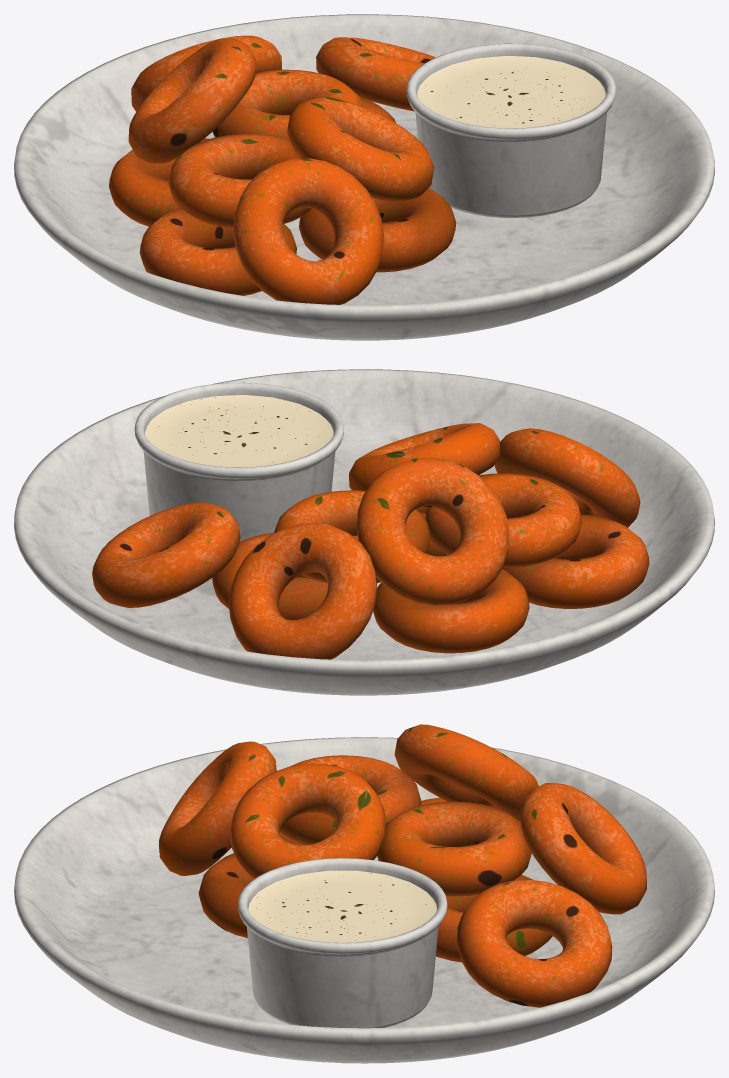
The model's file is Onion Rings Platter.glb.
The picture shows the model from 3 angles, top to bottom: view 1: azimuth 30°, elevation 25°; view 2: azimuth 150°, elevation 25°; view 3: azimuth 270°, elevation 25°; orthographic projection.
Visible parts, largest first — view 1: Onion Rings Platter; view 2: Onion Rings Platter; view 3: Onion Rings Platter.
Part boxes in pixels (bbox=[...]): Onion Rings Platter: bbox=[14, 14, 714, 340]; Onion Rings Platter: bbox=[14, 369, 714, 695]; Onion Rings Platter: bbox=[14, 724, 714, 1063].
Bounding box in the file's own units: 0.0859 × 0.023 × 0.0859.
Materials: 3 (3 with a texture image).
